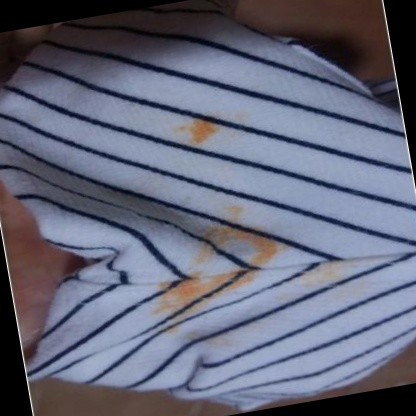kimchi: (154, 265, 256, 324), (301, 251, 358, 291), (197, 226, 247, 266), (178, 111, 223, 151), (246, 236, 289, 272), (203, 327, 244, 353), (228, 204, 251, 224), (168, 320, 185, 339)
